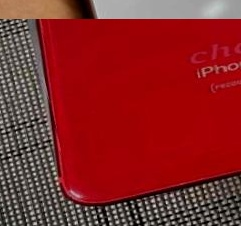scratch: (70, 93, 114, 132)
